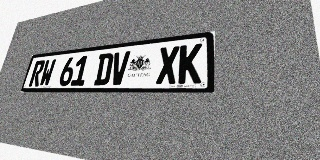1: (70, 55, 90, 86)
6: (58, 57, 77, 86)
D: (93, 53, 114, 85)
K: (178, 43, 202, 84)
R: (28, 60, 46, 87)
V: (109, 51, 130, 85)
W: (39, 59, 56, 86)
X: (156, 46, 180, 84)
